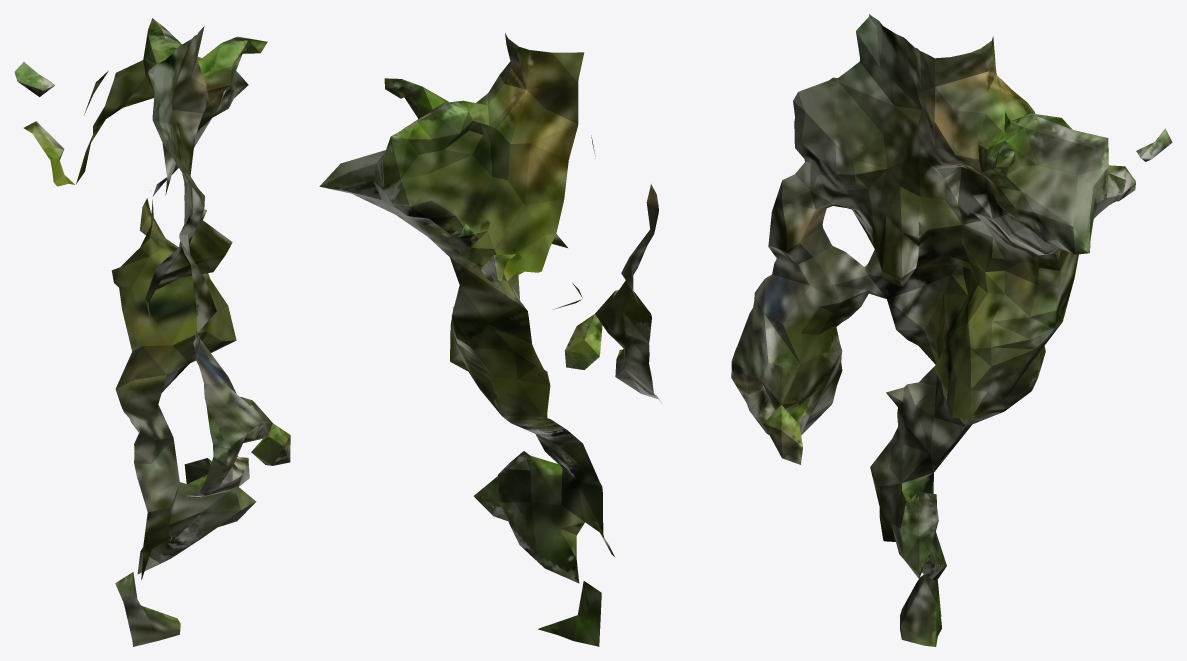
3 renders of one model, left to right at view 1: azimuth 30°, elevation 25°; view 2: azimuth 150°, elevation 25°; view 3: azimuth 270°, elevation 25°, orthographic. The views are drawn at different scales.
Size of the model in its own units: 0.3 by 0.8374 by 0.5563.
Materials: 2 (2 with a texture image).
